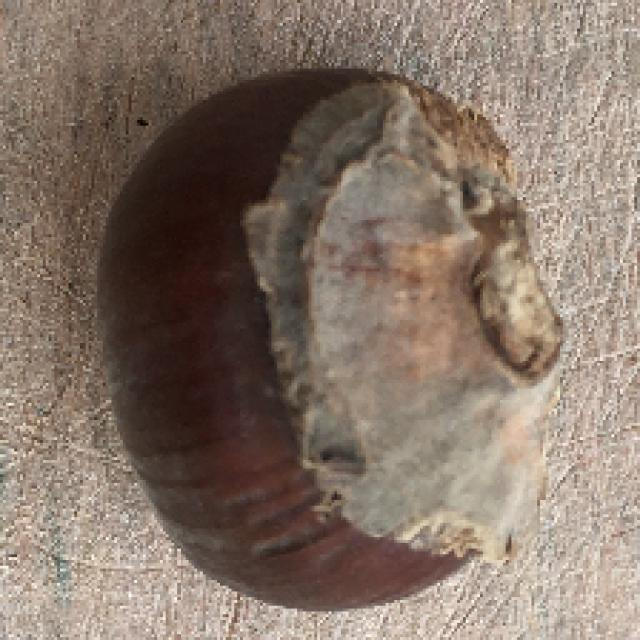DamagedHazelnut: (101, 69, 565, 614)
